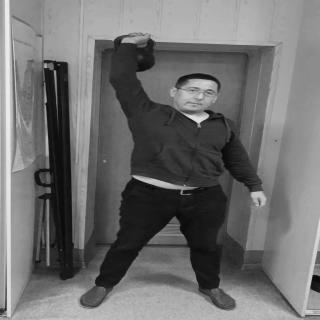kettlebell: (114, 35, 159, 72)
